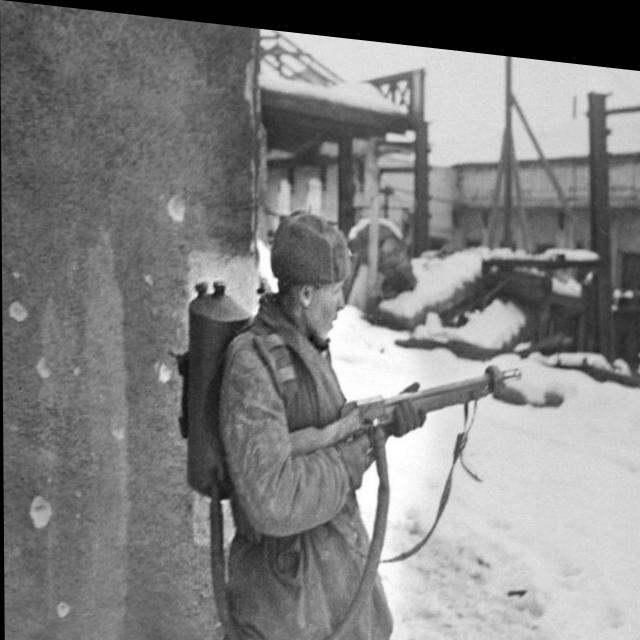other: (154, 173, 434, 640)
